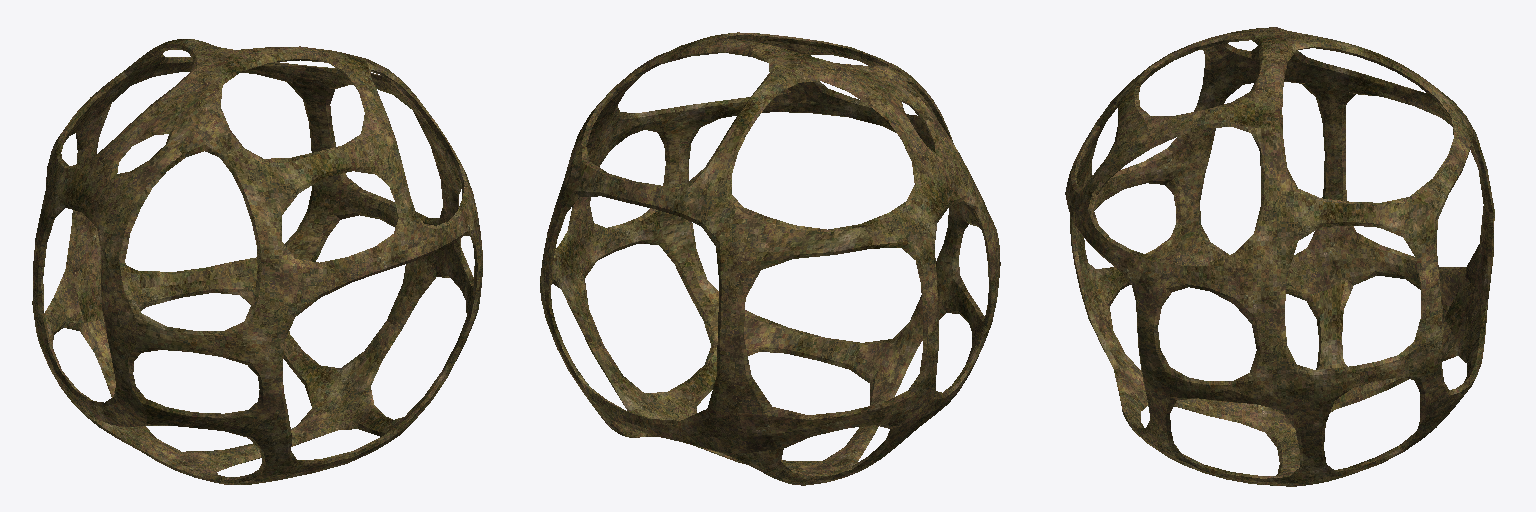
3 views of the same model, side by side, from view 1: azimuth 30°, elevation 25°; view 2: azimuth 150°, elevation 25°; view 3: azimuth 270°, elevation 25° (orthographic).
Visible parts, largest first — view 1: hole, hole hole2; view 2: hole, hole hole2; view 3: hole, hole hole2.
Boxes of the visible parts, x1,y1,x2,y2 form: hole: [32, 39, 482, 484]; hole hole2: [41, 47, 477, 479]; hole: [540, 32, 1000, 485]; hole hole2: [548, 35, 990, 476]; hole: [1065, 27, 1494, 486]; hole hole2: [1072, 39, 1492, 478].
Bounding box in the file's own units: 2140 × 2155 × 2047.
Materials: 1 (1 with a texture image).